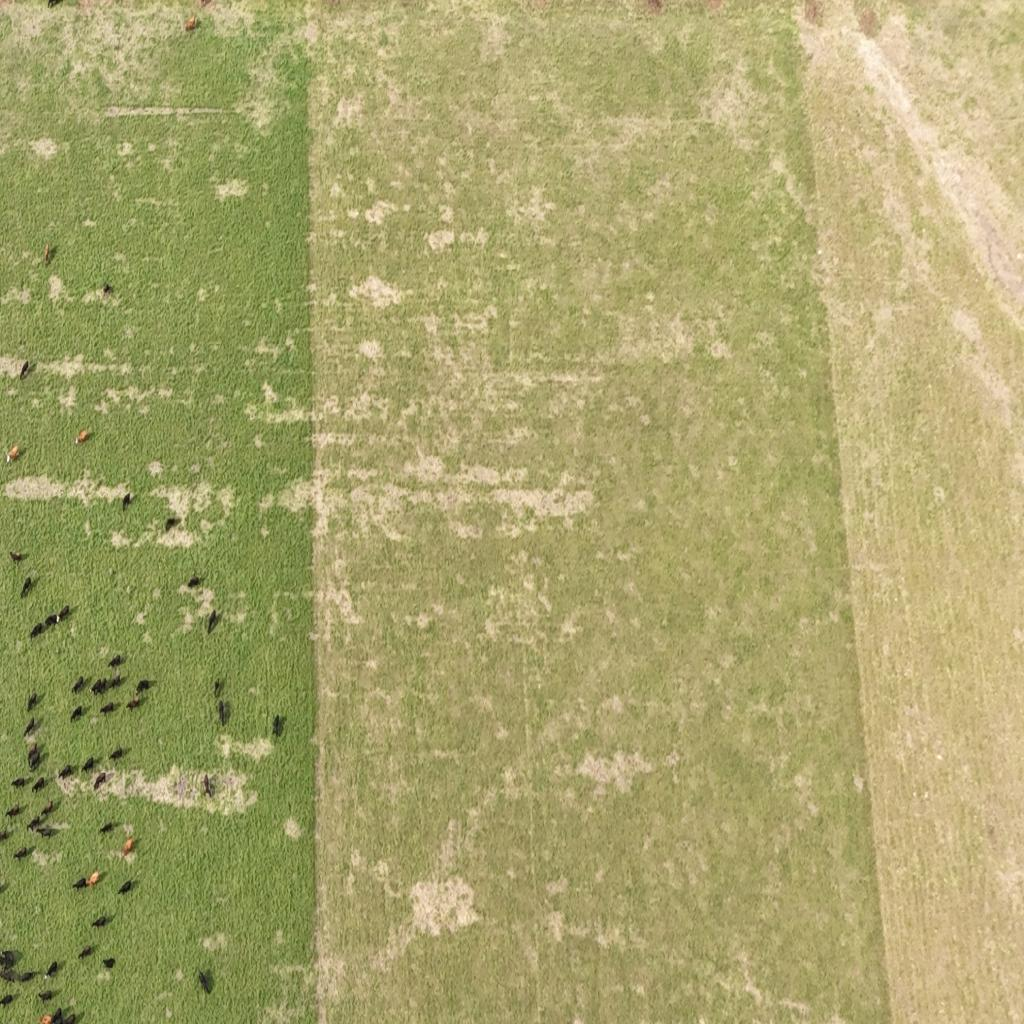cow: (198, 968, 213, 994), (0, 950, 18, 970), (202, 773, 214, 799), (119, 878, 137, 895), (0, 968, 17, 986), (92, 913, 111, 929), (38, 800, 54, 819), (8, 446, 24, 465), (78, 943, 96, 959), (5, 804, 23, 820), (20, 577, 34, 597), (31, 775, 46, 793), (38, 988, 56, 1003), (45, 960, 60, 978), (17, 970, 36, 984), (36, 826, 58, 838), (27, 814, 43, 830), (99, 700, 117, 714), (208, 610, 218, 634), (272, 714, 282, 738), (24, 716, 36, 736), (29, 622, 44, 638), (56, 606, 70, 623), (81, 756, 94, 774), (93, 771, 106, 789), (72, 676, 85, 694), (10, 776, 28, 789), (10, 551, 28, 564), (27, 691, 38, 712), (30, 752, 42, 771), (122, 837, 134, 856), (100, 958, 115, 973), (58, 764, 73, 779), (13, 846, 29, 860), (109, 746, 123, 762), (72, 876, 88, 890), (136, 679, 152, 693), (50, 1007, 64, 1023), (86, 870, 100, 886), (218, 699, 226, 726), (99, 821, 114, 835), (44, 614, 58, 629), (165, 516, 178, 532), (70, 706, 83, 722), (122, 492, 132, 512), (20, 360, 30, 380), (213, 678, 223, 698), (26, 742, 36, 762), (188, 574, 202, 588), (62, 1010, 76, 1024), (0, 993, 14, 1007), (127, 695, 140, 710), (109, 655, 124, 668), (0, 828, 12, 844), (185, 16, 197, 32), (76, 433, 88, 448), (109, 674, 120, 690), (102, 278, 112, 295), (96, 678, 107, 693), (44, 242, 51, 265), (48, 0, 64, 10), (90, 678, 100, 693), (37, 1014, 52, 1024), (0, 881, 10, 894)
